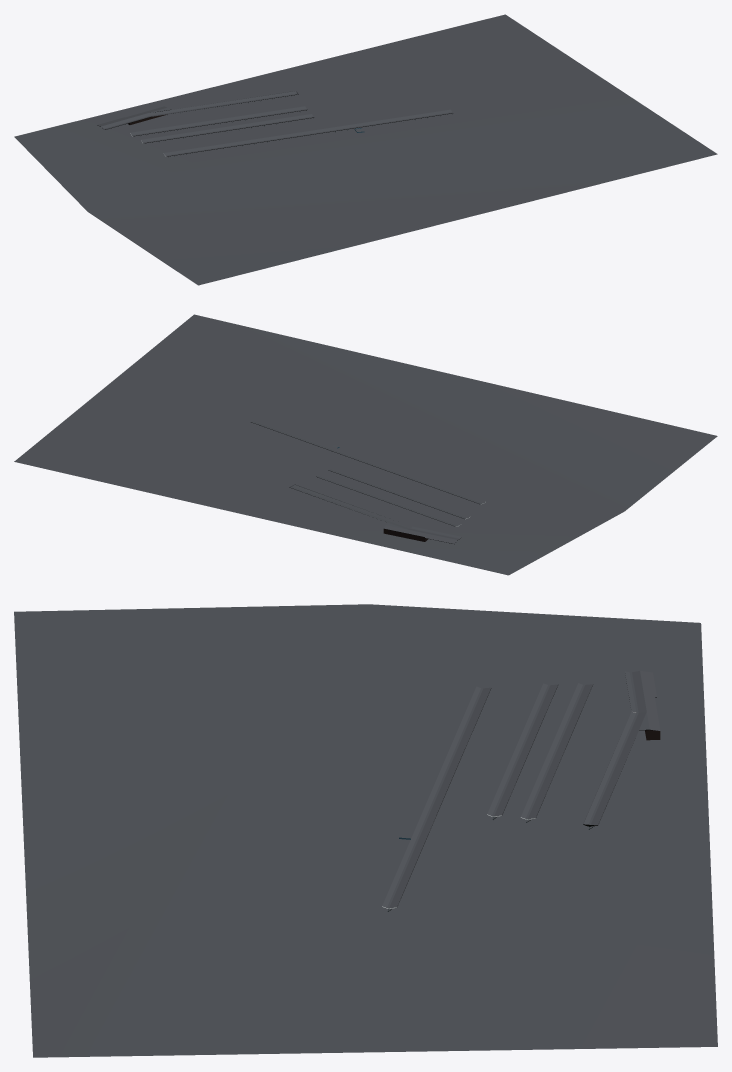
File: chattanooga-choo-choo-train-depot.glb
3 views of the same model, one above another, from view 1: azimuth 30°, elevation 25°; view 2: azimuth 150°, elevation 25°; view 3: azimuth 270°, elevation 25° (orthographic). The views are drawn at different scales.
Visible parts, largest first — view 1: LOD0; view 2: LOD0; view 3: LOD0.
Boxes of the visible parts, x1=… form: LOD0: x1=14, y1=14, x2=717, y2=285; LOD0: x1=14, y1=314, x2=717, y2=575; LOD0: x1=14, y1=604, x2=717, y2=1057.
Size of what is drawn, in the model's own units: 429 by 6.55 by 283.
Materials: 2 (2 with a texture image).
